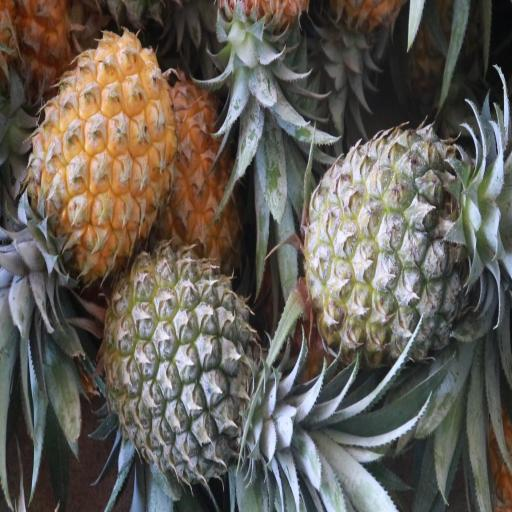Pineapple - v8 v1: (30, 31, 176, 276), (166, 81, 246, 271)
